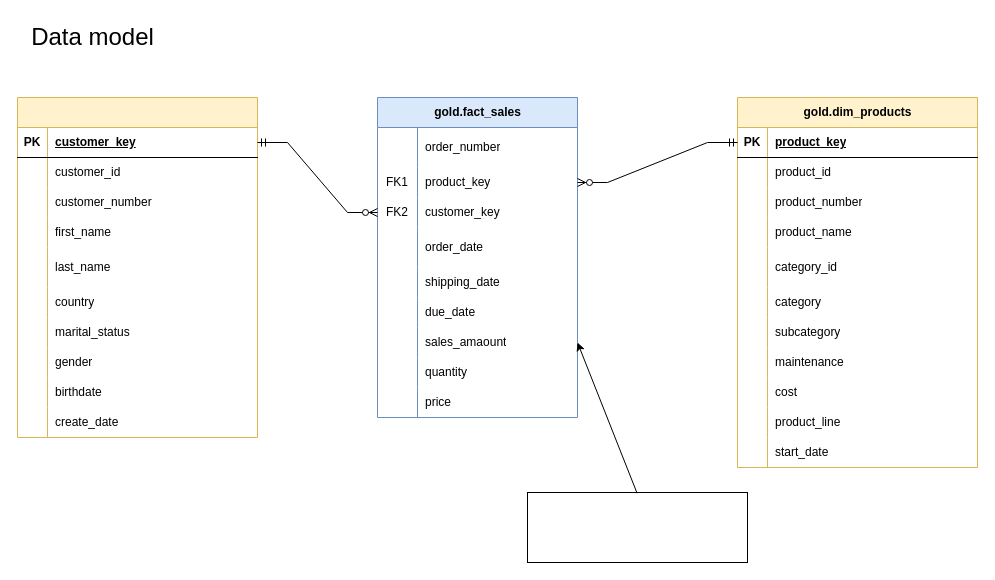
Image size: 995x580. Some labels were removed from this diagram. Here are the shapes that lost their labels. From the top down, the box of each, then its label:
(16, 96, 258, 438): gold.dim_customers
(526, 492, 748, 562): Sales Calculation: Sales = Quantity * price
